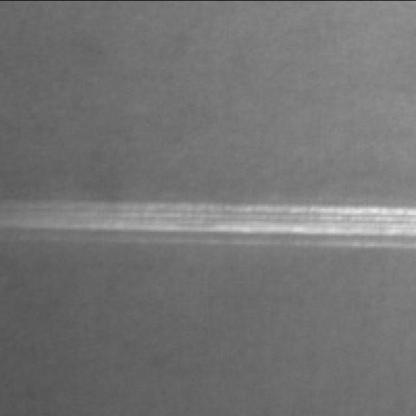scratches: (40, 191, 416, 251)
